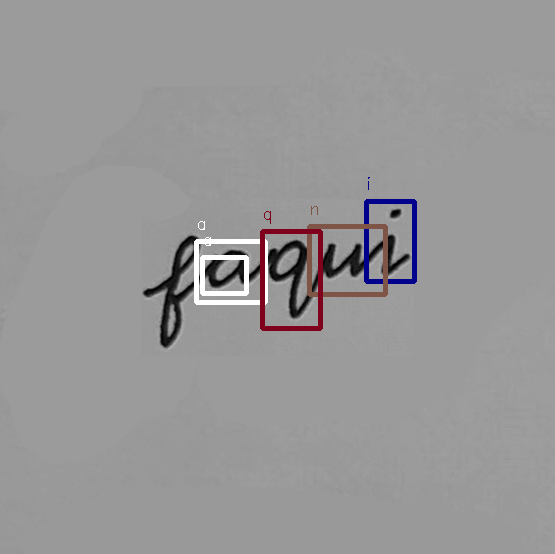a: (132, 227, 228, 316)
f: (34, 201, 130, 433)
i: (474, 147, 547, 293)
q: (255, 205, 347, 379)
u: (365, 215, 454, 293)
